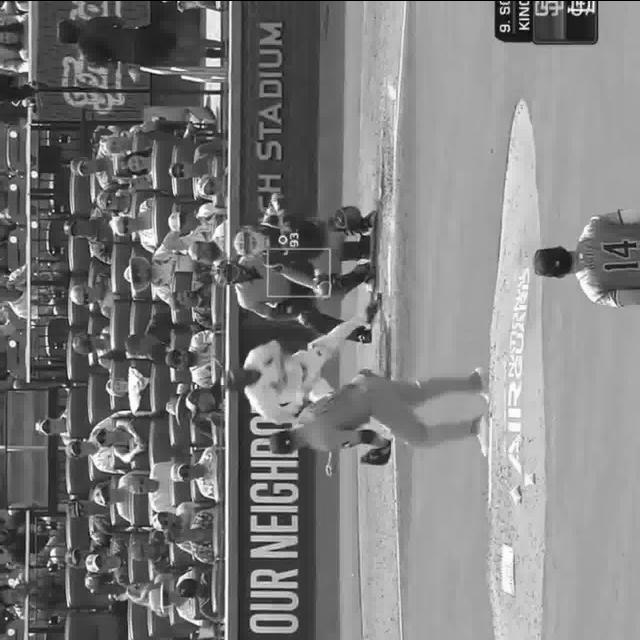base: (386, 244, 392, 296)
baseball_glove: (362, 438, 396, 466), (282, 208, 304, 245)
shoe: (361, 256, 380, 294), (474, 365, 494, 401), (474, 416, 490, 452), (366, 292, 381, 320), (368, 208, 378, 226)
